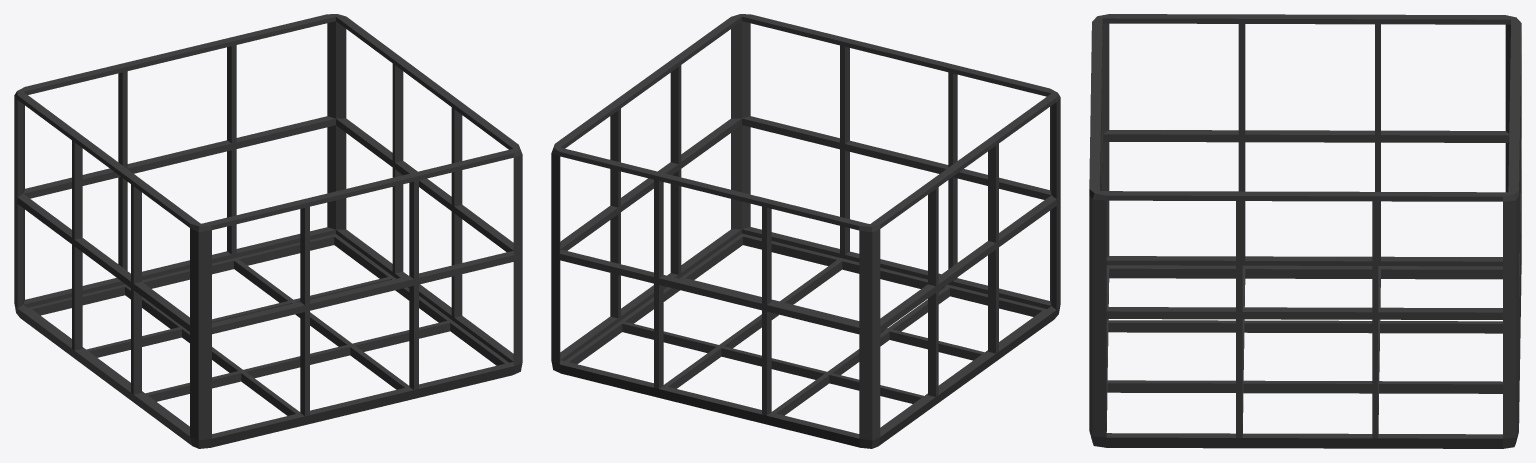
Rendered from Organizer_1.fbx.
3 renders of one model, left to right at view 1: azimuth 30°, elevation 25°; view 2: azimuth 150°, elevation 25°; view 3: azimuth 270°, elevation 25°, orthographic. The views are drawn at different scales.
Visible parts, largest first — view 1: Organizer_1; view 2: Organizer_1; view 3: Organizer_1.
Boxes of the visible parts, bbox=[...] form: Organizer_1: bbox=[14, 14, 522, 448]; Organizer_1: bbox=[551, 14, 1060, 448]; Organizer_1: bbox=[1089, 14, 1521, 448].
Bounding box in the file's own units: 40.99 × 40.98 × 26.82.
